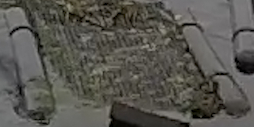bag: (2, 1, 235, 122)
